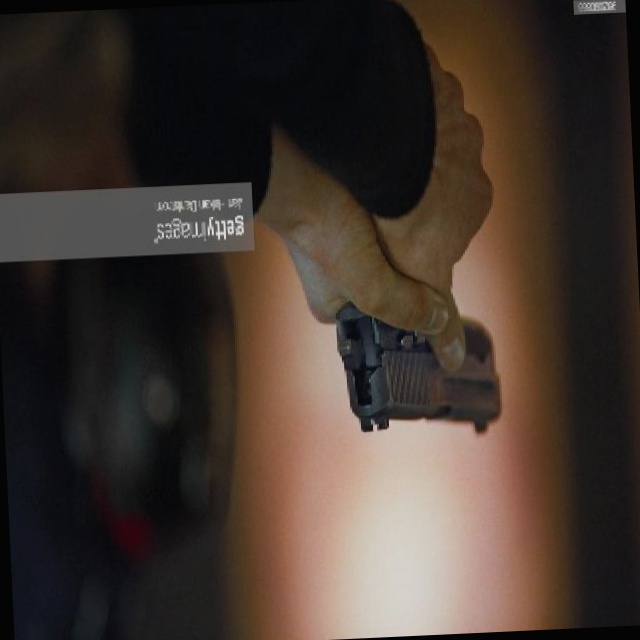gun: (333, 300, 510, 444)
